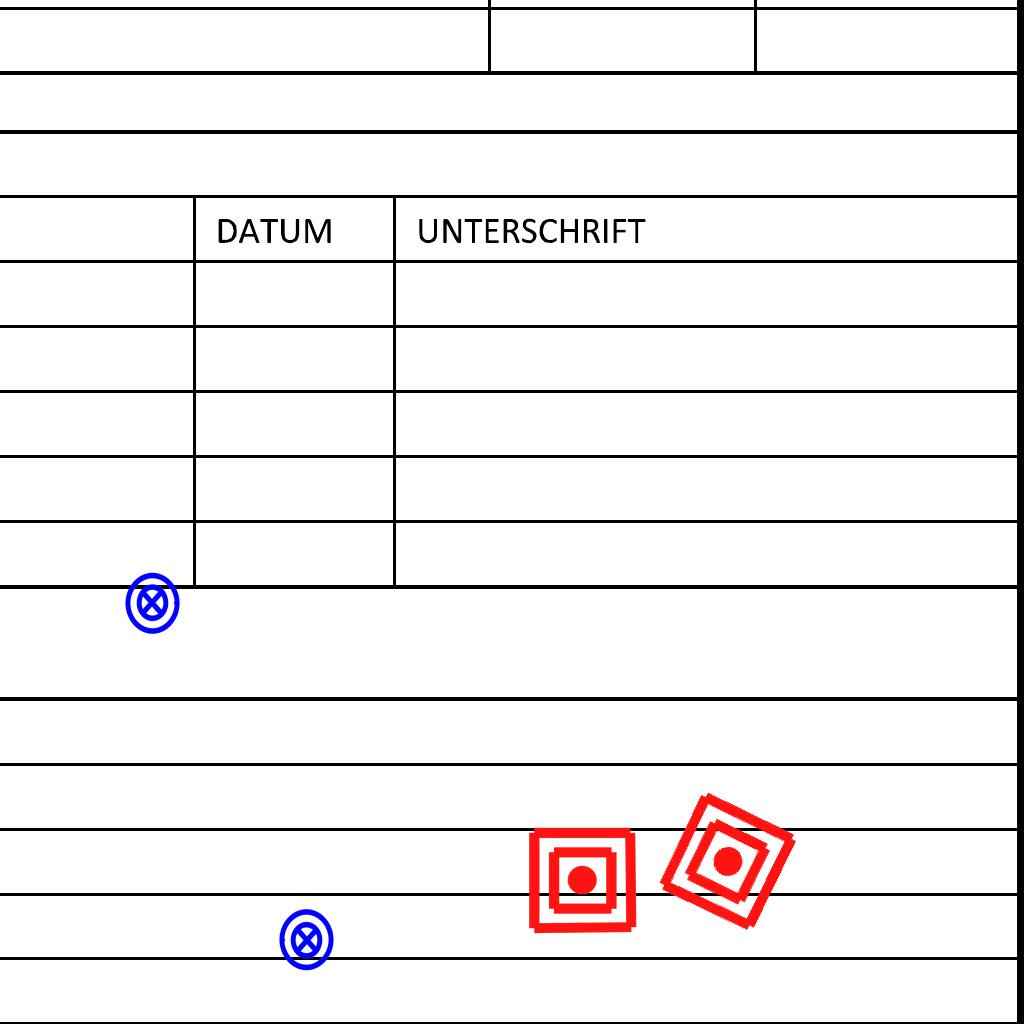NAM-Nichtautomatischer_Melder: (651, 785, 804, 938), (526, 824, 639, 937)
Taster_beleuchtet: (119, 570, 185, 636), (274, 907, 340, 973)
